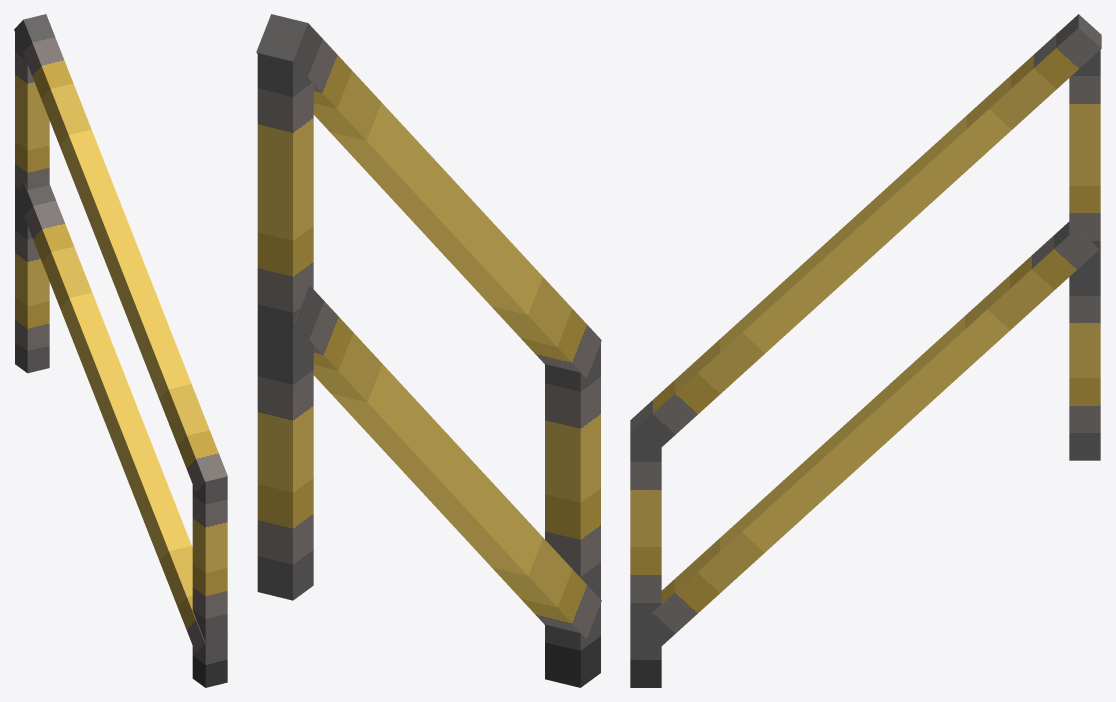
File: yellow_stair_rail_left.obj
3 renders of one model, left to right at view 1: azimuth 30°, elevation 25°; view 2: azimuth 150°, elevation 25°; view 3: azimuth 270°, elevation 25°, orthographic. The views are drawn at different scales.
Visible parts, largest first — view 1: cube.002, cube.003, cube.001, cube; view 2: cube.001, cube.002, cube.003, cube; view 3: cube.002, cube.003, cube.001, cube.
Boxes of the visible parts, x1=… form: cube.002: x1=14, y1=14, x2=227, y2=491; cube.003: x1=15, y1=183, x2=227, y2=652; cube.001: x1=15, y1=33, x2=49, y2=373; cube: x1=192, y1=476, x2=227, y2=687; cube.001: x1=257, y1=53, x2=313, y2=600; cube.002: x1=256, y1=14, x2=601, y2=378; cube.003: x1=294, y1=285, x2=601, y2=638; cube: x1=545, y1=343, x2=600, y2=687; cube.002: x1=630, y1=14, x2=1101, y2=454; cube.003: x1=630, y1=222, x2=1099, y2=653; cube.001: x1=1069, y1=50, x2=1100, y2=460; cube: x1=630, y1=434, x2=661, y2=687.
Bounding box in the file's own units: 0.065 × 1.45 × 0.9396.
